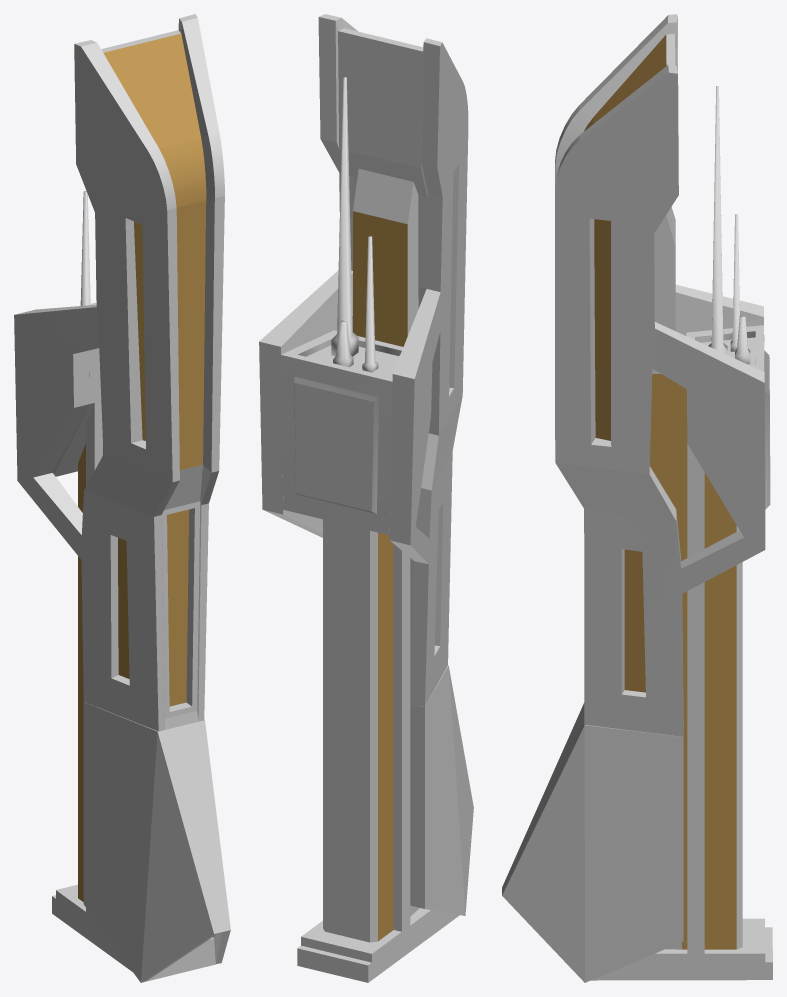
File: Skyscraper3.glb
The picture shows the model from 3 angles, left to right: view 1: azimuth 30°, elevation 25°; view 2: azimuth 150°, elevation 25°; view 3: azimuth 270°, elevation 25°; orthographic projection.
Visible parts, largest first — view 1: Skyscraper 2; view 2: Skyscraper 2; view 3: Skyscraper 2.
Part boxes in pixels (x1=…): Skyscraper 2: x1=14, y1=14, x2=230, y2=982; Skyscraper 2: x1=259, y1=14, x2=473, y2=982; Skyscraper 2: x1=502, y1=14, x2=772, y2=982.
Size of the model in its own units: 15.2 by 85.02 by 22.71.
